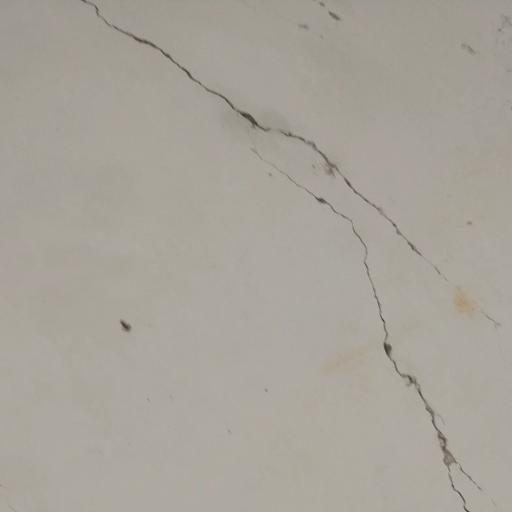major_crack: (76, 0, 499, 512)
